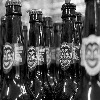beer: (27, 7, 49, 100)
